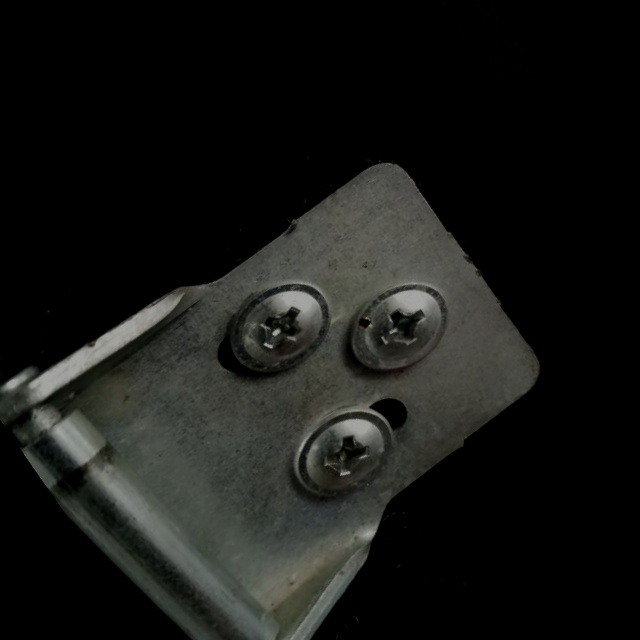phillips: (213, 262, 347, 390), (276, 387, 410, 513), (334, 265, 466, 390)
